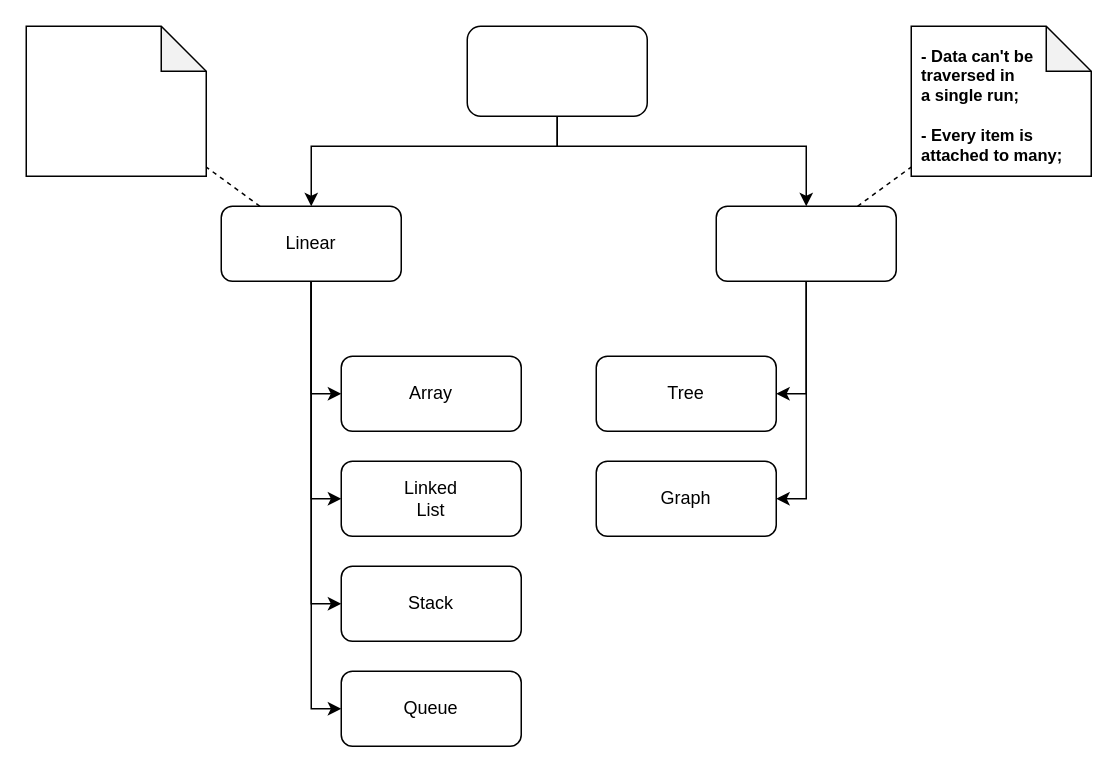
The diagram is 1118 pixels wide and 773 high, and some of its shapes have lost their labels. Each missing label, with the centre of its shape:
- All data can be traversed in a single run; - Sequencial arrangement;: point 115,100
Data Structures: point 556,70
Non-Linear: point 805,243
